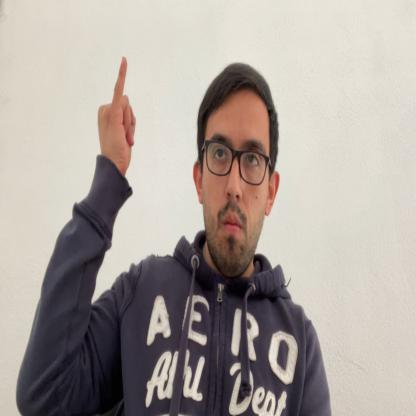I: (96, 53, 136, 176)
